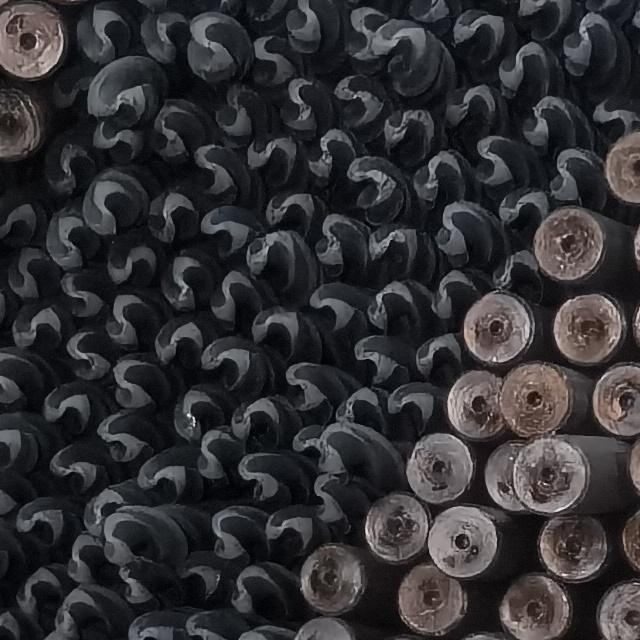tool: (534, 208, 628, 286), (502, 359, 594, 434), (390, 562, 466, 638), (430, 506, 506, 581), (551, 293, 628, 365), (492, 570, 569, 640), (524, 436, 592, 514), (464, 294, 536, 367), (0, 0, 65, 76), (536, 518, 610, 584), (406, 434, 472, 504), (363, 494, 426, 567), (301, 545, 367, 613), (483, 450, 542, 520), (448, 370, 504, 440), (0, 84, 40, 171), (594, 358, 640, 421), (605, 130, 640, 207), (597, 576, 640, 638), (292, 618, 358, 640), (620, 507, 640, 575), (631, 436, 640, 485)
tool_b: (559, 9, 631, 91), (367, 7, 438, 82), (242, 227, 318, 297), (329, 157, 406, 226), (89, 56, 168, 122), (511, 98, 596, 156), (73, 0, 150, 62), (184, 13, 250, 85), (434, 199, 506, 264), (331, 334, 416, 389), (152, 100, 222, 166), (199, 336, 275, 396), (216, 78, 283, 145), (84, 167, 150, 234), (205, 267, 276, 329), (49, 585, 129, 640), (226, 561, 302, 618), (97, 408, 175, 462), (473, 134, 543, 194), (47, 435, 117, 495), (409, 148, 478, 208), (238, 453, 316, 506), (382, 381, 449, 441), (41, 378, 109, 437), (162, 245, 221, 313), (43, 120, 97, 194), (499, 42, 567, 100), (252, 306, 322, 362), (138, 445, 206, 502), (104, 286, 168, 346), (282, 361, 348, 419), (367, 279, 435, 335), (314, 210, 372, 275), (286, 0, 351, 58), (278, 79, 338, 141), (0, 411, 60, 473), (0, 177, 54, 245), (444, 82, 507, 140), (0, 346, 57, 410), (228, 395, 299, 446), (263, 503, 330, 557), (16, 498, 84, 551), (333, 73, 391, 135), (172, 386, 236, 442), (310, 281, 376, 335), (105, 227, 164, 287), (547, 146, 607, 205), (190, 144, 250, 202), (382, 108, 442, 166), (207, 506, 267, 563), (44, 208, 101, 268), (245, 136, 308, 190), (453, 9, 516, 63), (102, 499, 154, 564), (0, 247, 59, 304), (8, 562, 64, 622), (307, 128, 364, 186), (434, 267, 494, 322), (200, 203, 262, 256), (112, 350, 170, 406), (198, 427, 245, 491), (12, 304, 74, 352), (252, 35, 308, 88), (172, 548, 223, 606), (310, 420, 357, 480), (307, 474, 359, 528), (140, 6, 191, 61), (150, 191, 202, 243), (59, 264, 110, 317), (414, 331, 466, 381), (339, 10, 386, 64), (502, 187, 552, 237), (153, 320, 205, 368), (524, 0, 586, 39), (64, 330, 112, 380), (80, 486, 126, 534), (0, 465, 44, 515), (221, 0, 293, 30), (46, 79, 100, 119), (599, 89, 640, 141), (116, 564, 160, 612), (62, 532, 104, 581), (340, 386, 384, 432), (182, 611, 248, 640), (491, 251, 537, 291), (125, 609, 184, 640), (0, 516, 26, 581), (390, 0, 463, 21), (234, 625, 298, 640)
